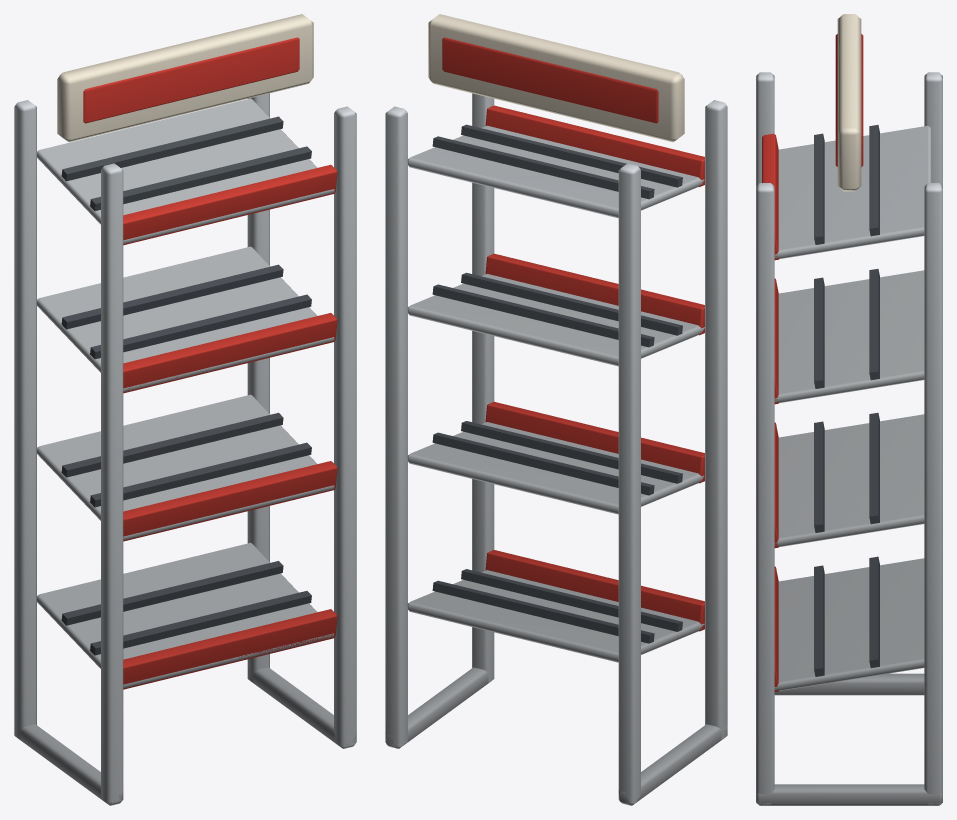
The model's file is WireRack_Chips_01.glb.
3 renders of one model, left to right at view 1: azimuth 30°, elevation 25°; view 2: azimuth 150°, elevation 25°; view 3: azimuth 270°, elevation 25°, orthographic. The views are drawn at different scales.
Visible parts, largest first — view 1: SM_WireRack_Chips_01; view 2: SM_WireRack_Chips_01; view 3: SM_WireRack_Chips_01.
Boxes of the visible parts, left/top/right/bottom form: SM_WireRack_Chips_01: left=14, top=14, right=356, bottom=805; SM_WireRack_Chips_01: left=385, top=14, right=727, bottom=805; SM_WireRack_Chips_01: left=756, top=14, right=942, bottom=805.
Bounding box in the file's own units: 0.6 × 1.6 × 0.4.
Materials: 1 (1 with a texture image).
